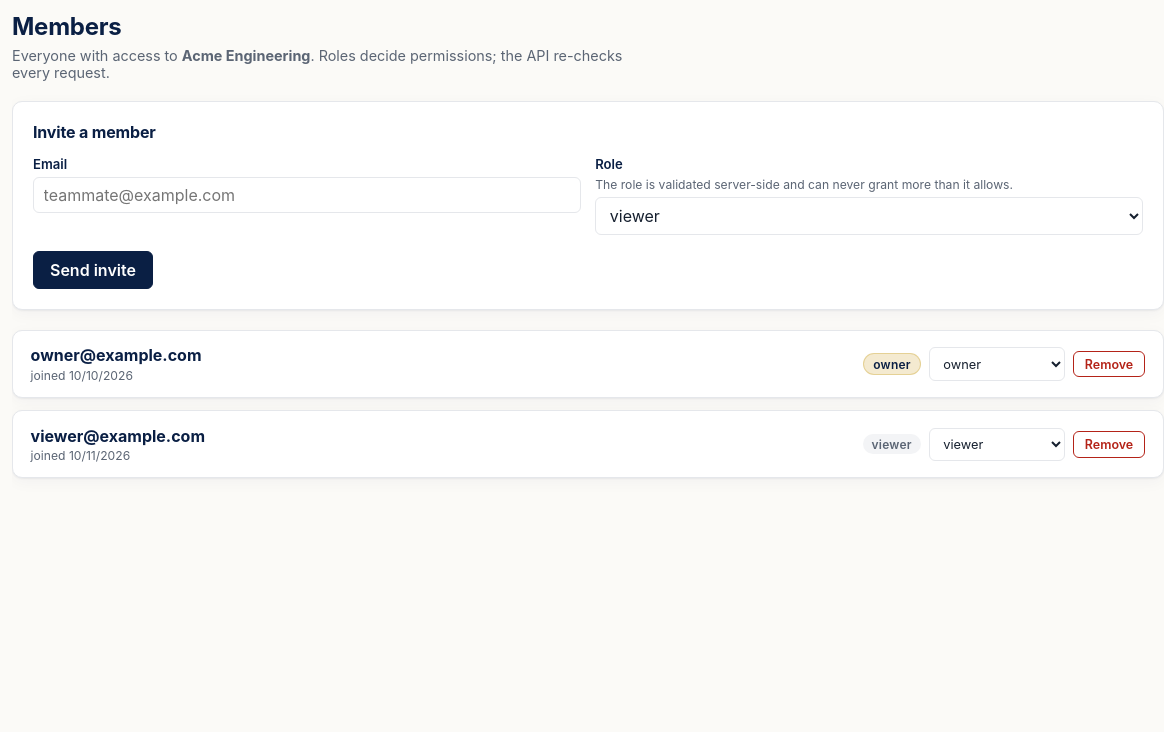
Test: MembersView › explains a 409 when a role change is rejected
The image size is (1164, 732).
Select "owner" in the dropdown with test id "role-mem_viewer" at (997, 444), box x1=929 y1=428 x2=1065 y2=461
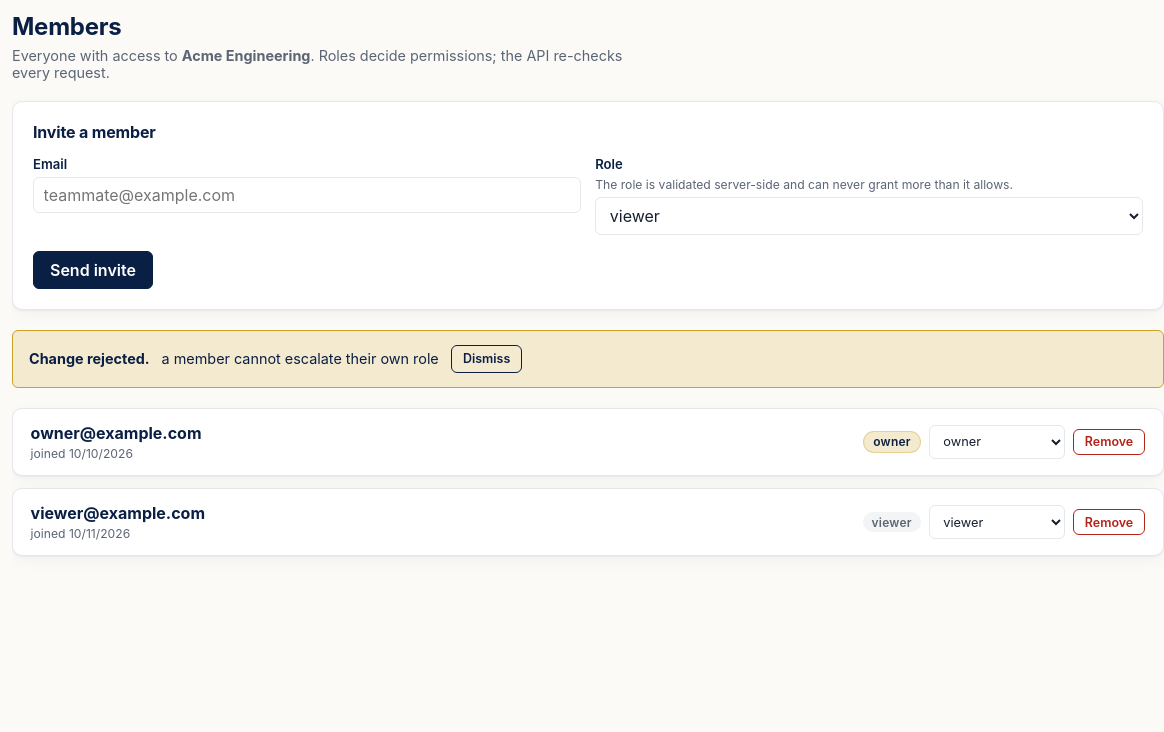
Result: the element with test id "members-conflict" is shown at x1=12 y1=330 x2=1163 y2=388
Result: the element with test id "members-conflict" shows "a member cannot escalate their own role" at x1=162 y1=350 x2=439 y2=367
